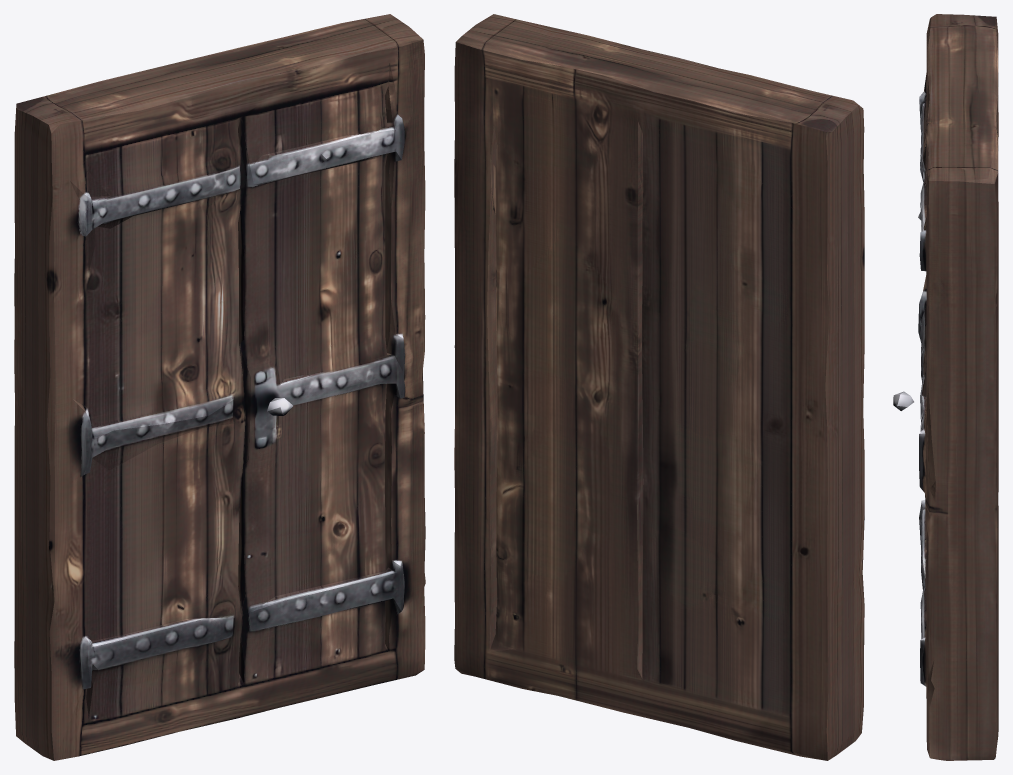
Rendered from porte_renforcee.glb.
The picture shows the model from 3 angles, left to right: view 1: azimuth 30°, elevation 25°; view 2: azimuth 150°, elevation 25°; view 3: azimuth 270°, elevation 25°; orthographic projection. The views are drawn at different scales.
Parts seen in each view (by area): view 1: world; view 2: world; view 3: world.
Part boxes in pixels (<box>): world: <box>14,14,425,760</box>; world: <box>454,14,864,760</box>; world: <box>893,14,998,760</box>.
Bounding box in the file's own units: 0.6189 × 1 × 0.1634.
1 material, 1 textured.
